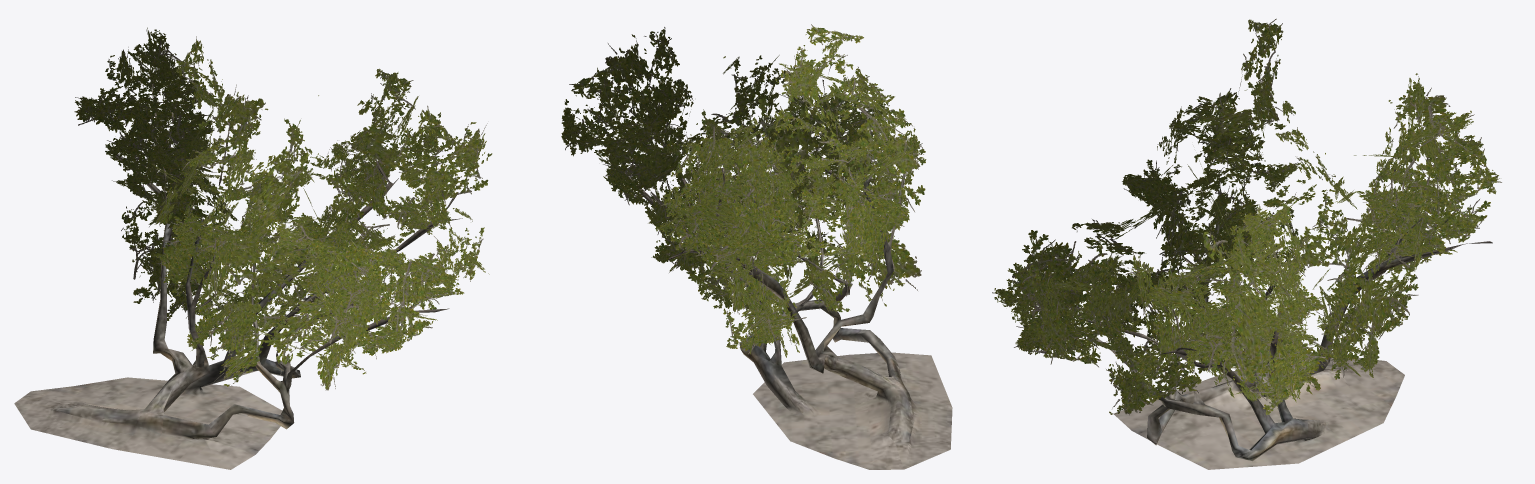
3 views of the same model, side by side, from view 1: azimuth 30°, elevation 25°; view 2: azimuth 150°, elevation 25°; view 3: azimuth 270°, elevation 25° (orthographic). The views are drawn at different scales.
Parts seen in each view (by area): view 1: island_tree_03_lod2; view 2: island_tree_03_lod2; view 3: island_tree_03_lod2.
Part boxes in pixels (x1=…): island_tree_03_lod2: x1=14, y1=27, x2=492, y2=469; island_tree_03_lod2: x1=561, y1=24, x2=952, y2=469; island_tree_03_lod2: x1=992, y1=18, x2=1501, y2=469.
Size of the model in its own units: 3.09 by 2.68 by 3.11.
Materials: 3 (3 with a texture image).
